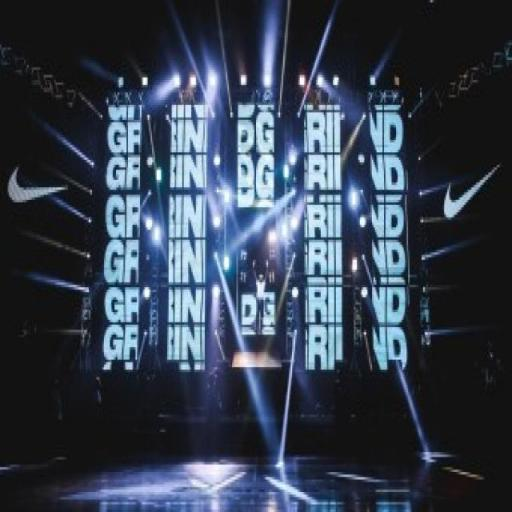Nike: (438, 162, 504, 222)
